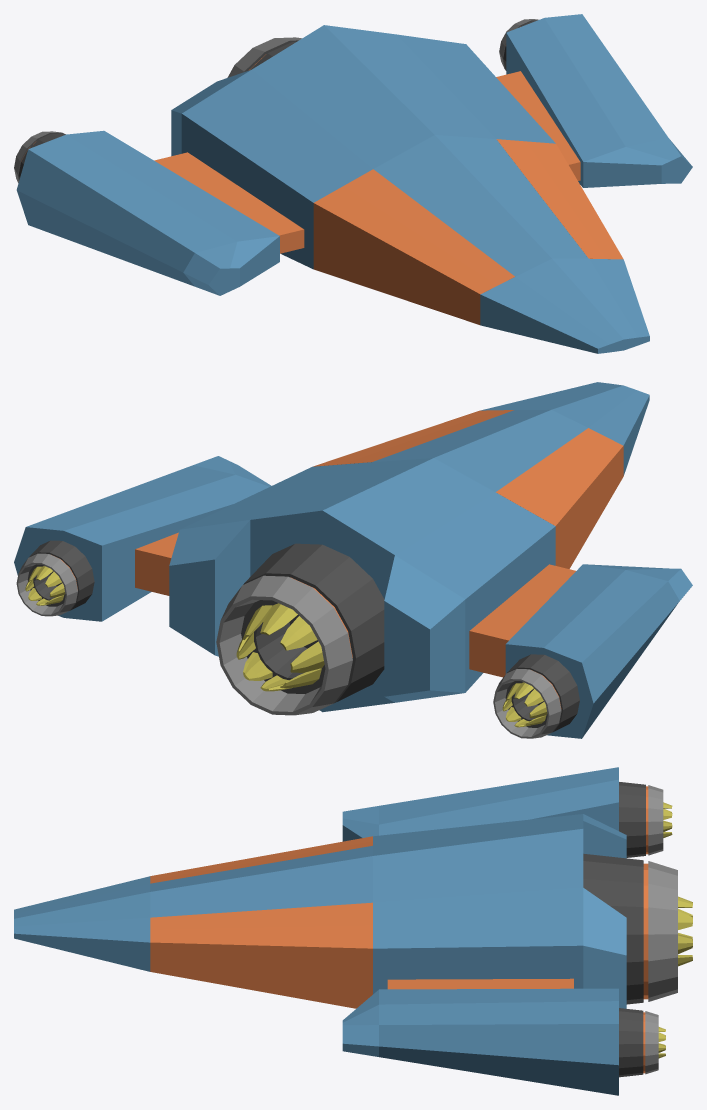
The model's file is PlayerShip.fbx.
The picture shows the model from 3 angles, top to bottom: view 1: azimuth 30°, elevation 25°; view 2: azimuth 150°, elevation 25°; view 3: azimuth 270°, elevation 25°; orthographic projection. The views are drawn at different scales.
Visible parts, largest first — view 1: ShipBody, Cube, ShipBody.001, Thruster, Thruster.001; view 2: ShipBody, Cube, Thruster, ShipBody.001, Thruster.001, Thruster.002, Falp.005, Falp.007, Falp.003, Falp.002; view 3: ShipBody, Cube, ShipBody.001, Thruster, Thruster.001, Thruster.002.
Part boxes in pixels (<box>): ShipBody: <box>171,25,649,353</box>; Cube: <box>16,14,692,295</box>; ShipBody.001: <box>313,139,623,324</box>; Thruster: <box>227,37,301,77</box>; Thruster.001: <box>14,131,65,182</box>; ShipBody: <box>169,382,649,712</box>; Cube: <box>14,456,692,738</box>; Thruster: <box>216,543,384,715</box>; ShipBody.001: <box>313,410,623,568</box>; Thruster.001: <box>493,654,579,738</box>; Thruster.002: <box>16,540,94,616</box>; Falp.005: <box>280,616,317,650</box>; Falp.007: <box>290,641,324,672</box>; Falp.003: <box>260,603,297,635</box>; Falp.002: <box>243,652,272,680</box>; ShipBody: <box>14,814,626,1008</box>; Cube: <box>342,767,618,1095</box>; ShipBody.001: <box>150,836,372,1008</box>; Thruster: <box>583,853,677,1004</box>; Thruster.001: <box>619,782,663,857</box>; Thruster.002: <box>619,1008,658,1077</box>.
Size of the model in its own units: 316 by 105 by 339.
